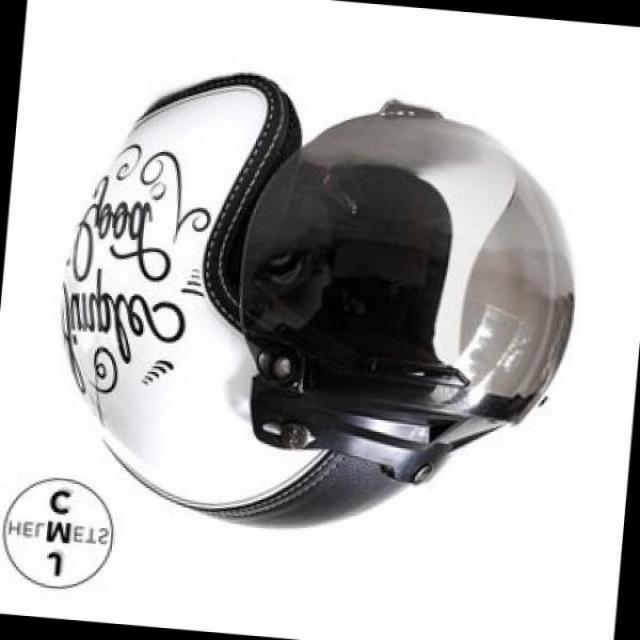Helmet: (46, 66, 593, 540)
